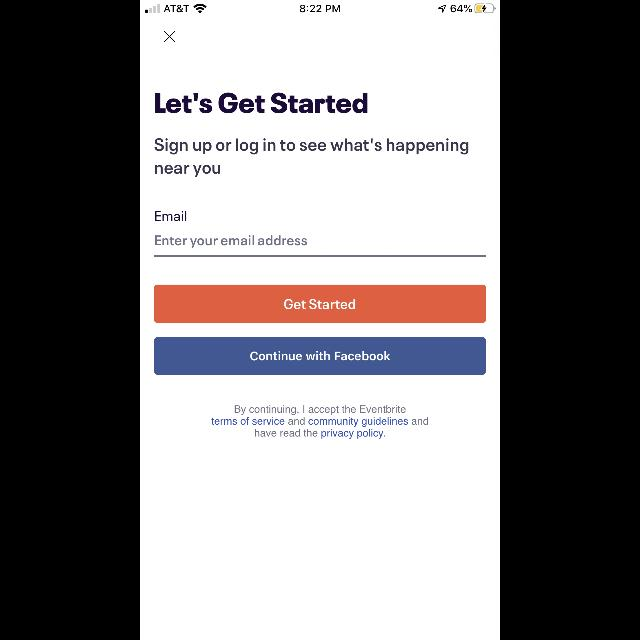icon: (164, 31, 176, 43)
input: (154, 235, 486, 257)
text: (155, 138, 469, 178), (212, 405, 428, 439), (155, 92, 367, 114), (155, 236, 307, 248), (156, 211, 187, 221)
textbutton: (154, 285, 486, 323), (154, 337, 486, 375)
uppertaskbar: (140, 0, 500, 14)
